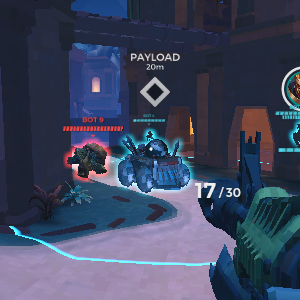model: (60, 138, 108, 181)
